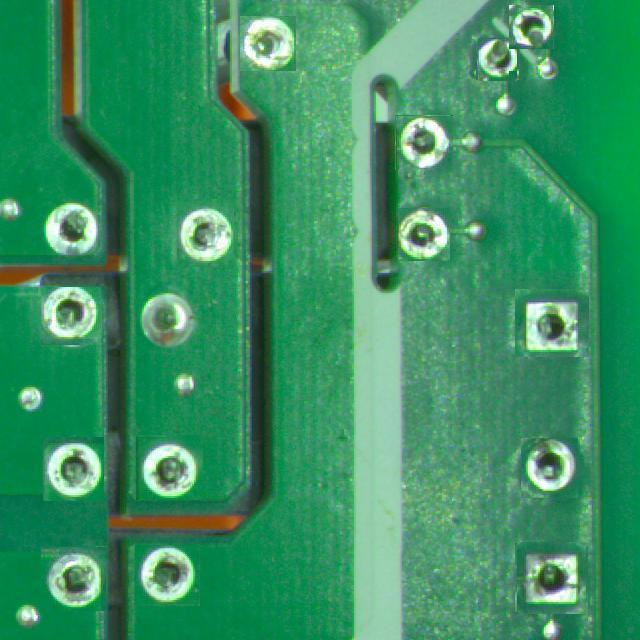lack_of_part: (517, 287, 588, 359), (516, 542, 587, 613), (137, 436, 202, 502), (41, 546, 106, 611), (176, 198, 234, 267), (135, 545, 200, 606), (43, 437, 104, 501), (41, 201, 99, 262), (41, 287, 101, 345), (521, 438, 578, 498), (239, 15, 296, 71), (395, 115, 453, 170), (398, 208, 450, 260), (509, 5, 554, 49), (477, 39, 518, 81)
